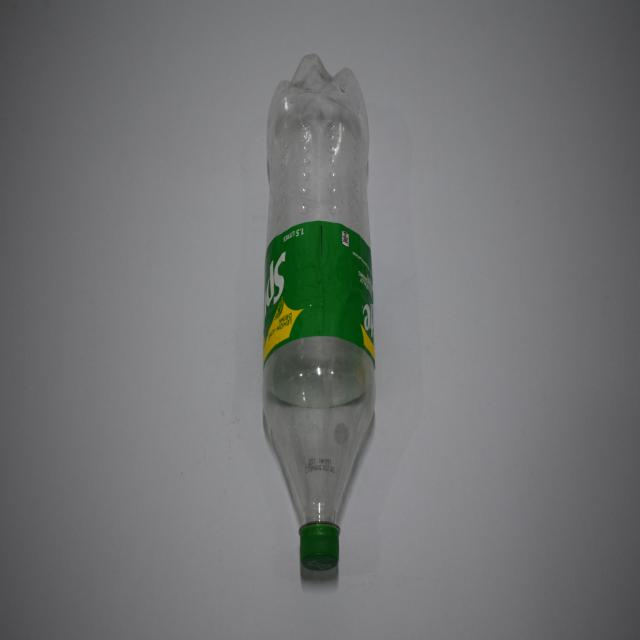bottle: (254, 42, 386, 592)
